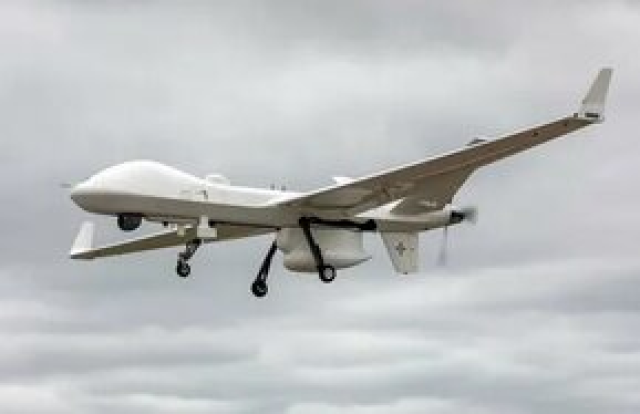military drone: (59, 67, 614, 297)
